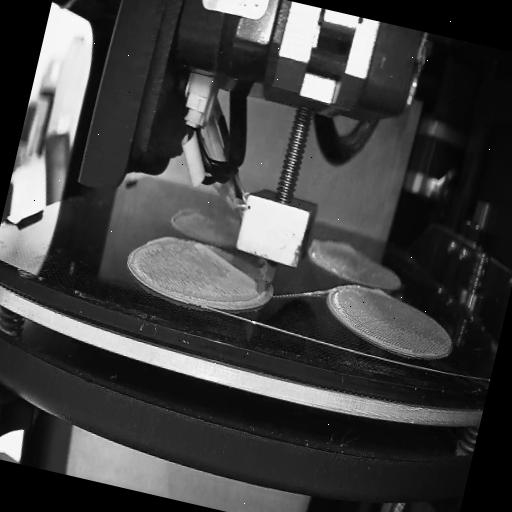over_extrusion: (190, 241, 260, 285), (304, 234, 356, 277), (149, 230, 178, 254), (167, 204, 189, 234), (370, 288, 393, 302)
